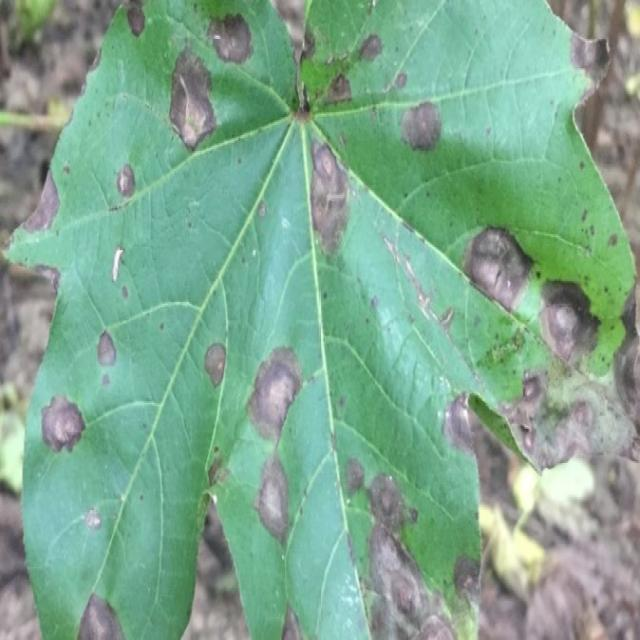Cotton Ball Rot: (244, 343, 305, 447), (166, 42, 220, 156), (305, 135, 353, 263), (37, 392, 87, 460), (397, 96, 444, 159)
Target Spot: (6, 3, 633, 635)
